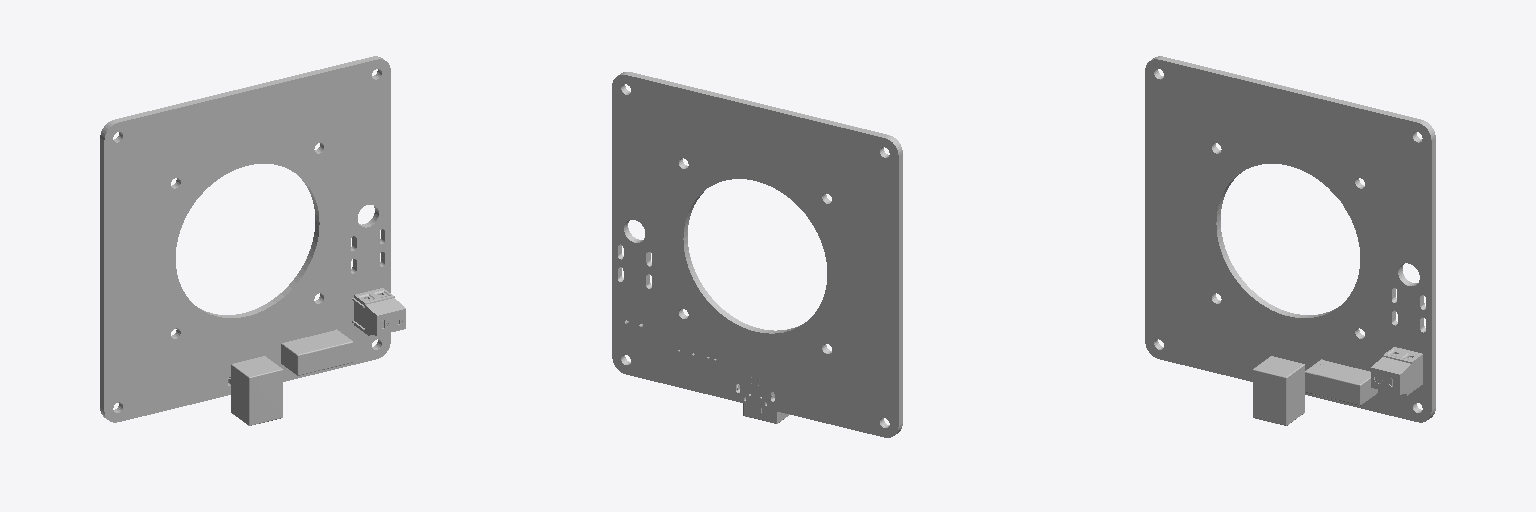
Rendered from OBJ_PCB_Fan supply.obj.
3 renders of one model, left to right at view 1: azimuth 30°, elevation 25°; view 2: azimuth 150°, elevation 25°; view 3: azimuth 330°, elevation 25°, orthographic.
Size of the model in its own units: 393 by 416 by 71.26.